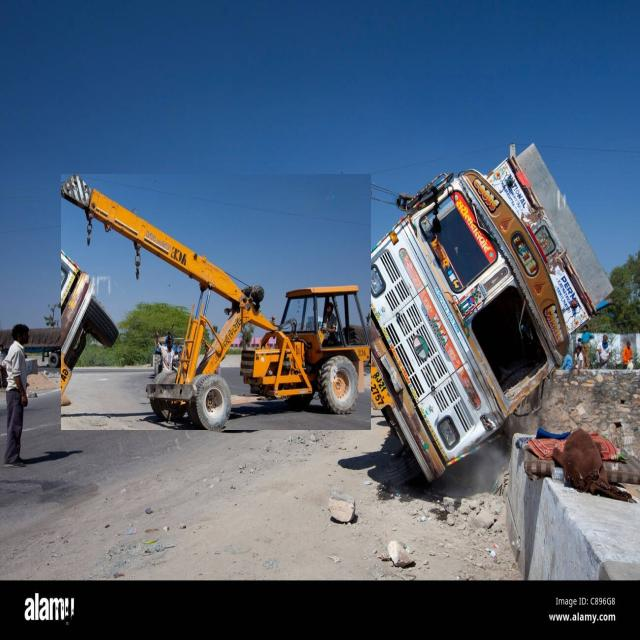accident: (315, 144, 611, 479)
truck: (61, 175, 371, 430)
